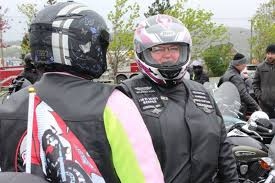helmet: (27, 1, 117, 84), (129, 11, 201, 81)
